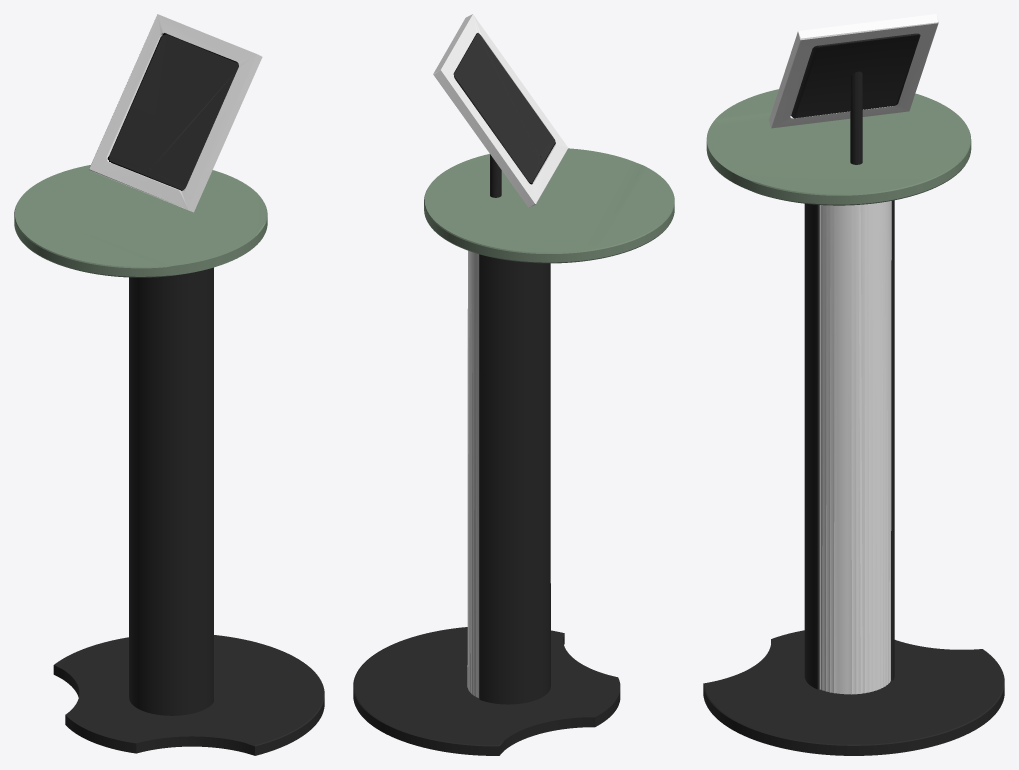
File: Lectern_2_fbx.FBX
3 renders of one model, left to right at view 1: azimuth 30°, elevation 25°; view 2: azimuth 150°, elevation 25°; view 3: azimuth 270°, elevation 25°, orthographic. The views are drawn at different scales.
Visible parts, largest first — view 1: Lectern_2_1, Lectern_2_6, Lectern_2_5, Ipad2_2, Lectern_2_8; view 2: Lectern_2_1, Lectern_2_6, Lectern_2_5, Ipad2_2, Lectern_2_8, Lectern_2_3; view 3: Lectern_2_3, Lectern_2_5, Lectern_2_6, Lectern_2_7, Lectern_2_1, Lectern_2_8, Lectern_2_2.
Boxes of the visible parts, <box> form: Lectern_2_1: <box>129,267,213,715</box>; Lectern_2_6: <box>14,165,267,277</box>; Lectern_2_5: <box>53,635,324,755</box>; Ipad2_2: <box>109,34,238,189</box>; Lectern_2_8: <box>89,14,262,212</box>; Lectern_2_1: <box>479,254,550,704</box>; Lectern_2_6: <box>424,148,674,263</box>; Lectern_2_5: <box>353,627,620,755</box>; Ipad2_2: <box>454,33,555,182</box>; Lectern_2_8: <box>433,14,567,207</box>; Lectern_2_3: <box>467,250,478,697</box>; Lectern_2_3: <box>819,201,891,694</box>; Lectern_2_5: <box>703,630,1004,755</box>; Lectern_2_6: <box>706,89,971,205</box>; Lectern_2_7: <box>791,33,920,164</box>; Lectern_2_1: <box>804,200,894,689</box>; Lectern_2_8: <box>769,14,938,128</box>; Lectern_2_2: <box>818,200,893,689</box>.
Size of what is drawn, in the model's own units: 55.14 by 123 by 48.98.
